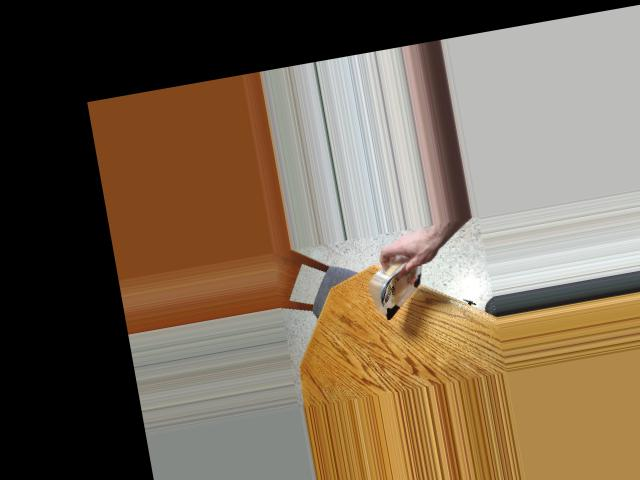cheese: (355, 252, 446, 323)
